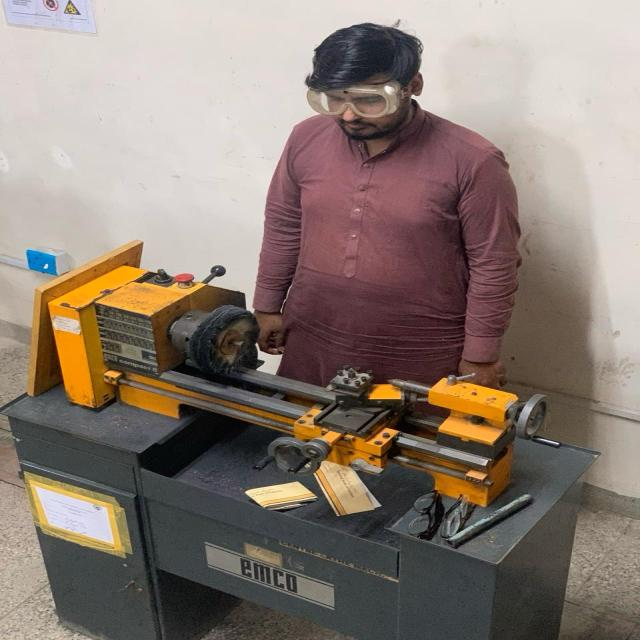googles: (303, 80, 402, 120)
